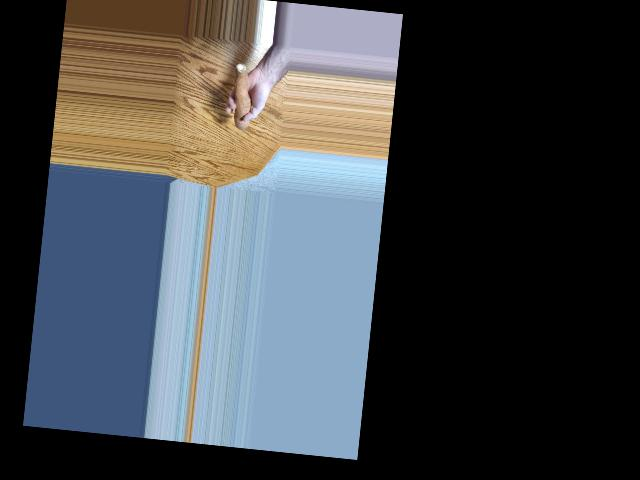sweet_potato: (229, 68, 256, 126)
